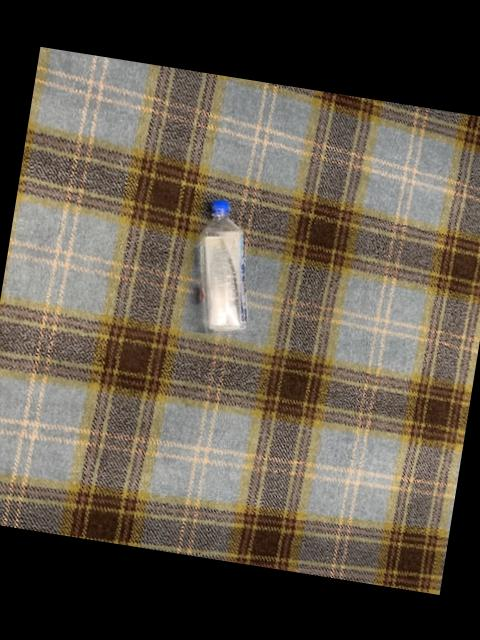plastic: (201, 200, 249, 334)
